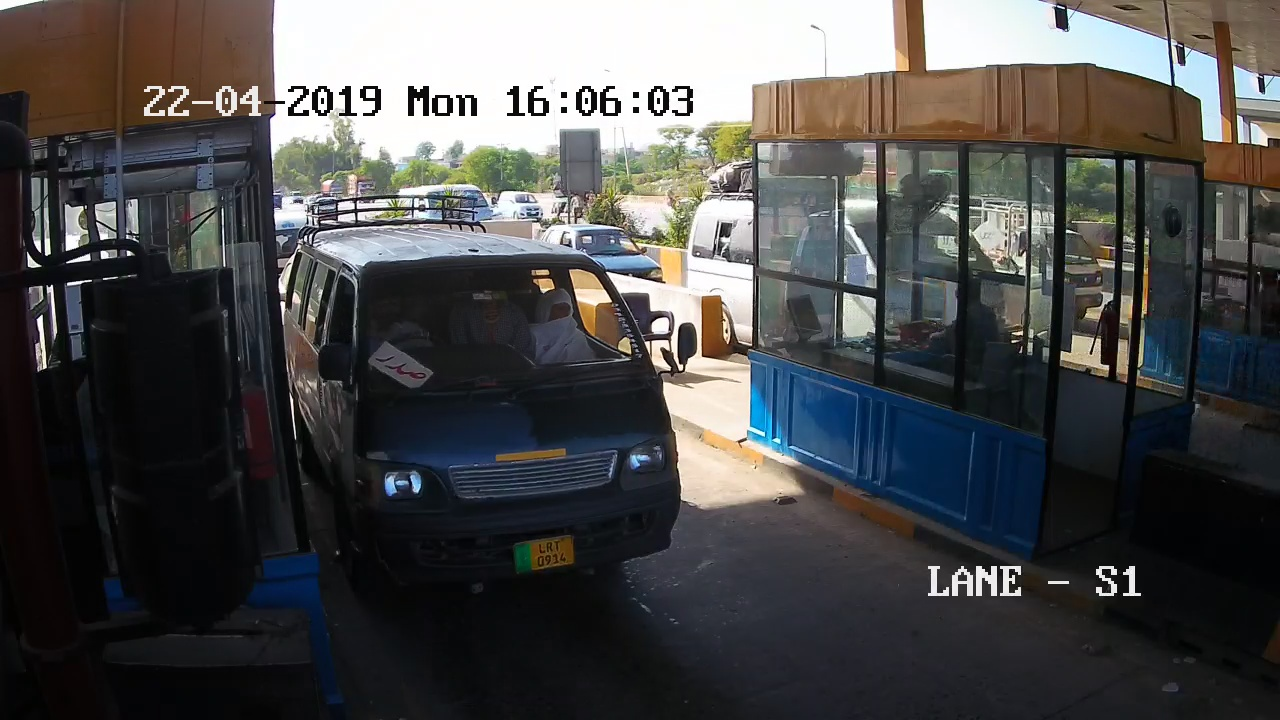Number Plate (Car): (515, 537, 573, 568)
